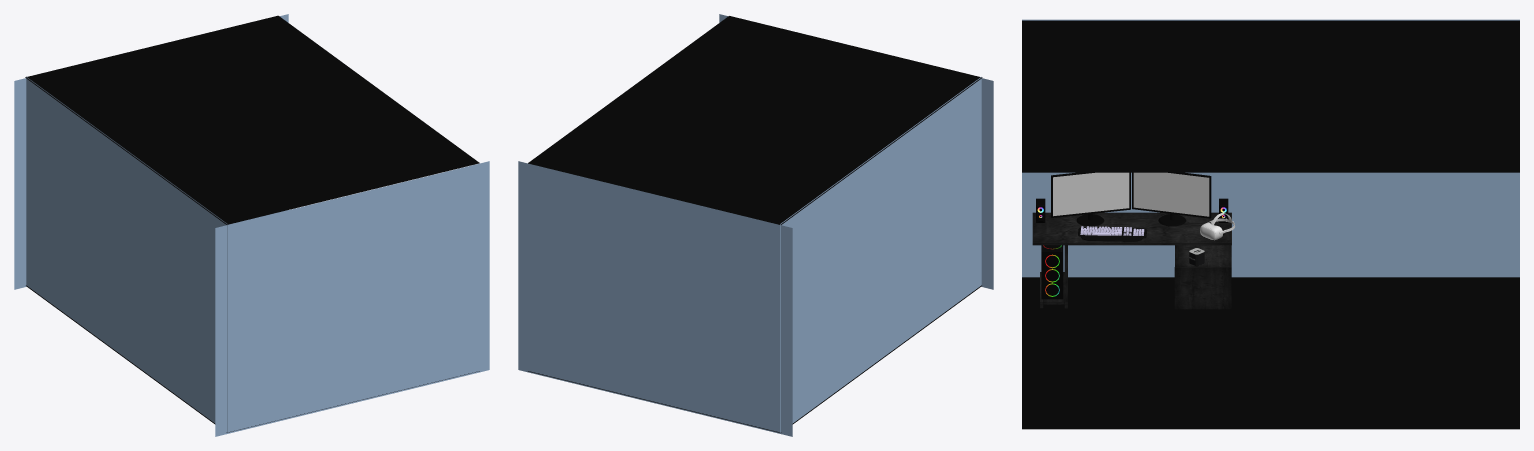
File: Room.glb
3 views of the same model, side by side, from view 1: azimuth 30°, elevation 25°; view 2: azimuth 150°, elevation 25°; view 3: azimuth 270°, elevation 25° (orthographic). The views are drawn at different scales.
Parts seen in each view (by area): view 1: Plane.005, Plane.001, Plane.002, Plane.004, Plane; view 2: Plane.004, Plane.001, Plane.002, Plane.005, Plane; view 3: Plane.001, Plane, Plane.002, Top Base, Right leg, Display (1), Display (2), CPU, Alusta, Left Leg, Outer Body.001.
Part boxes in pixels (left/top/right/bottom): Plane.005: left=215, top=161, right=489, bottom=436; Plane.001: left=25, top=15, right=479, bottom=224; Plane.002: left=26, top=76, right=227, bottom=432; Plane.004: left=14, top=14, right=288, bottom=289; Plane: left=26, top=285, right=479, bottom=432; Plane.004: left=518, top=161, right=792, bottom=436; Plane.001: left=528, top=16, right=982, bottom=224; Plane.002: left=780, top=77, right=981, bottom=432; Plane.005: left=719, top=14, right=993, bottom=289; Plane: left=528, top=285, right=981, bottom=432; Plane.001: left=1022, top=20, right=1519, bottom=172; Plane: left=1022, top=277, right=1519, bottom=429; Plane.002: left=1022, top=19, right=1519, bottom=277; Top Base: left=1032, top=212, right=1231, bottom=245; Right leg: left=1174, top=245, right=1231, bottom=309; Display (1): left=1053, top=172, right=1129, bottom=216; Display (2): left=1133, top=172, right=1209, bottom=216; CPU: left=1041, top=245, right=1063, bottom=299; Alusta: left=1078, top=227, right=1147, bottom=241; Left Leg: left=1040, top=245, right=1067, bottom=308; Outer Body.001: left=1132, top=172, right=1211, bottom=218.
Size of the model in its own units: 5.5 by 4.03 by 7.
15 materials, 4 textured.
